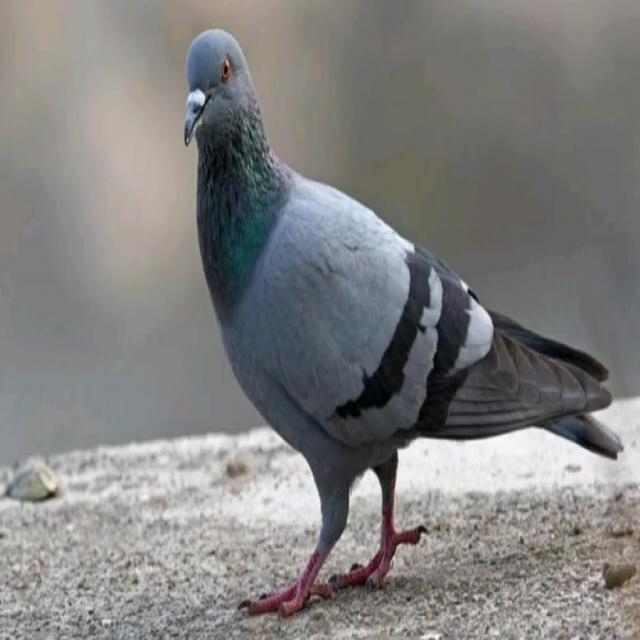bird: (178, 21, 628, 619)
